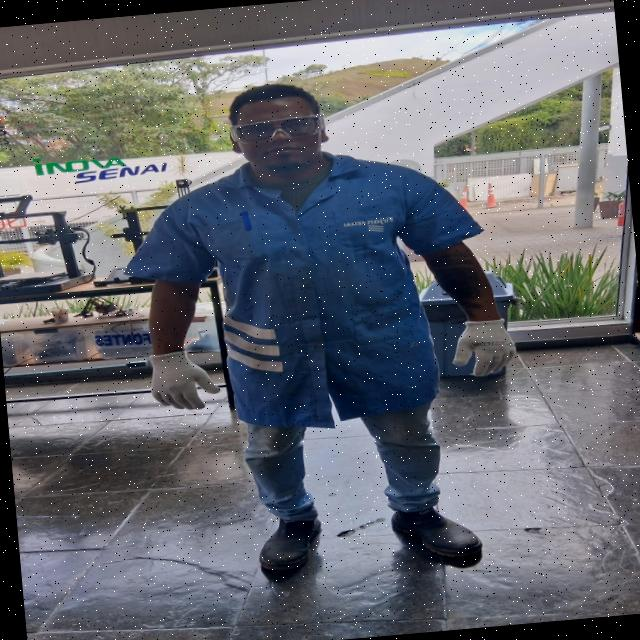BOTA: (385, 502, 487, 560), (253, 509, 319, 571)
JALECO: (120, 149, 492, 433)
LUVA: (144, 348, 222, 409), (443, 313, 512, 381)
OCULOS: (225, 112, 323, 147)
